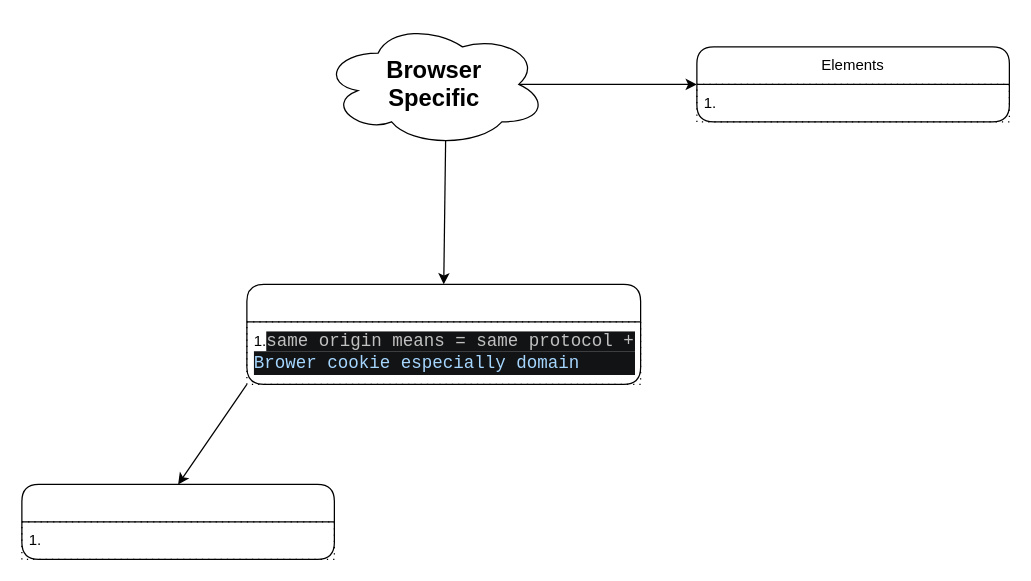
Some shapes in this 1031 by 581 pixel diagram are drawn without their labels. Each missing label, with the box of its shape:
Cookie Behaviour: (21, 483, 334, 559)
Secuirty: (246, 283, 641, 384)
